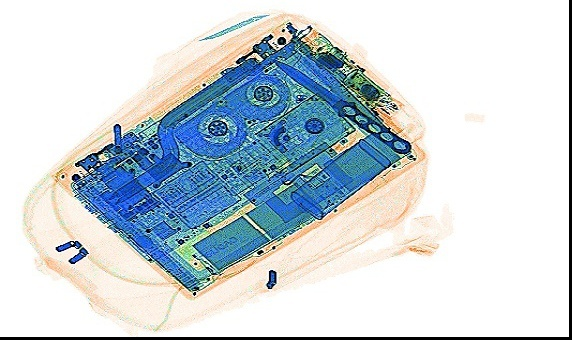knife: (268, 55, 412, 152)
zippooil: (287, 130, 401, 218)
